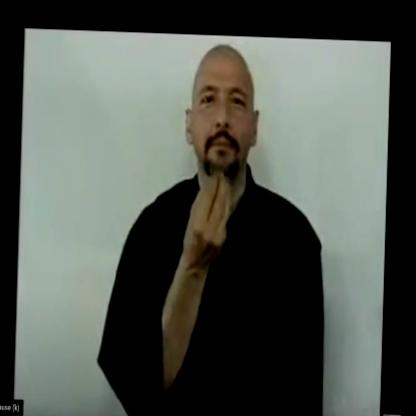Food: (150, 46, 285, 256)
